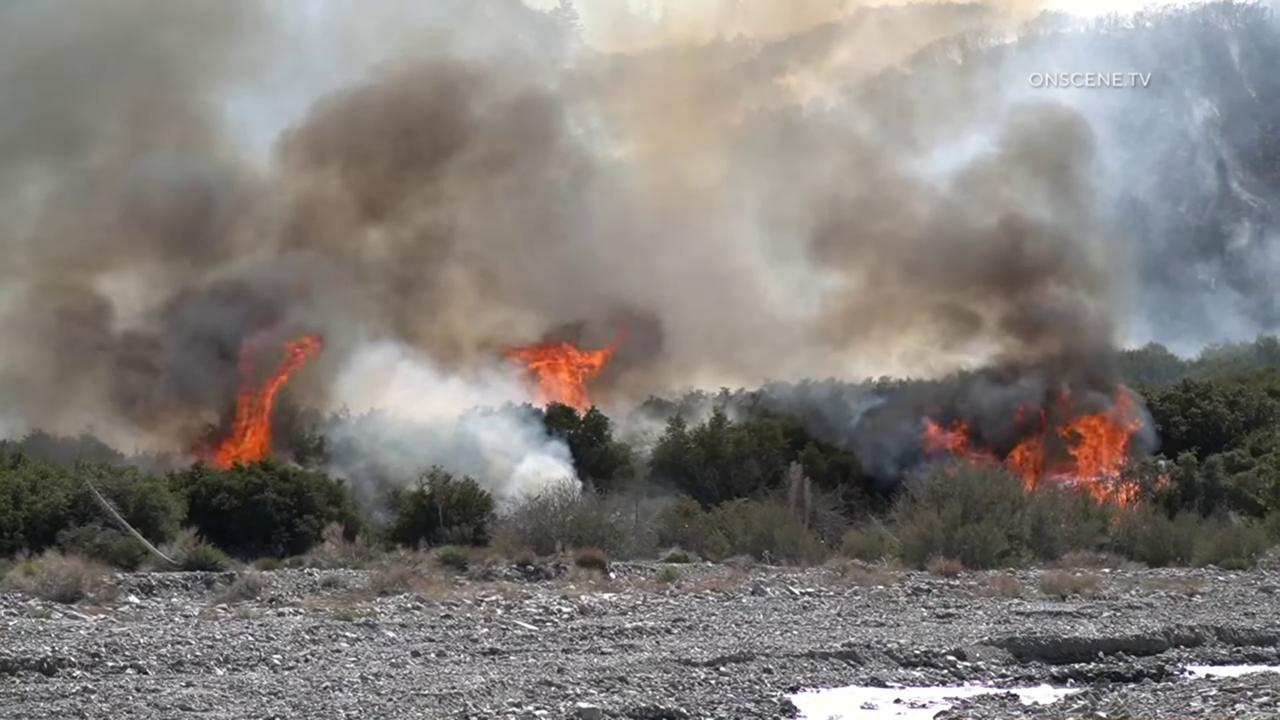fire: (918, 384, 1172, 525), (188, 329, 326, 475), (500, 329, 630, 418)
smoke: (0, 0, 1280, 532)
